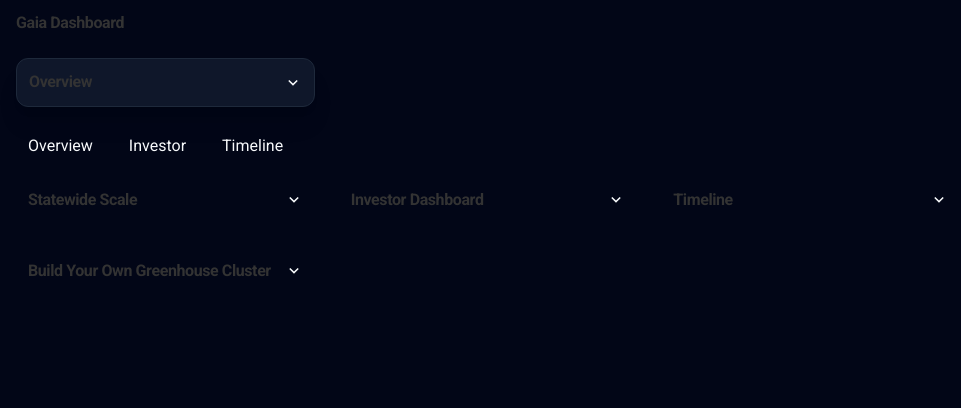
it: Dashboard page — general rendering › clicking the same button again collapses the card (toggle)
What coordinates should you click on to do the following:
click the 1st button "Expand"
I would click on:
 (293, 83)
Its box is [284,74,302,92].
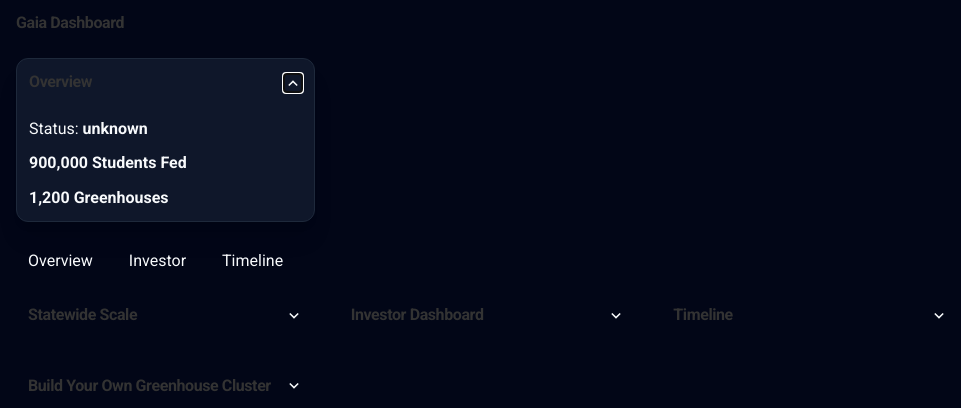
What coordinates should you click on to do the following:
click the button named "expand"
I would click on:
 (293, 83)
Its box is [284,74,302,92].
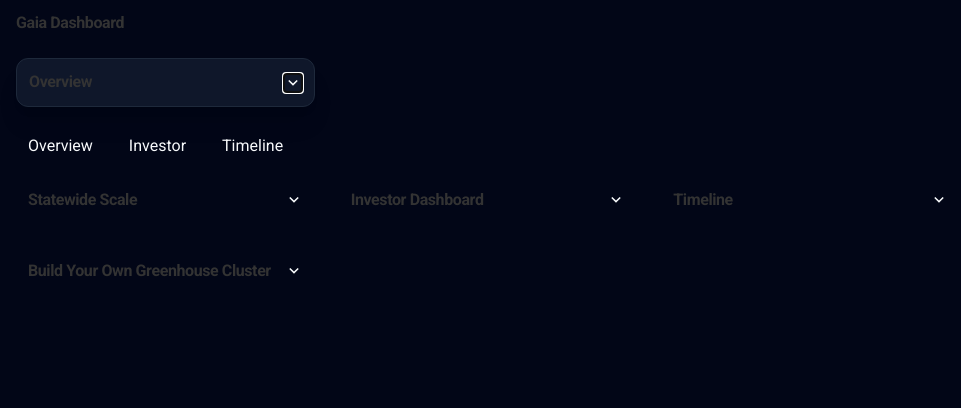
Expected: the 1st button "Expand" is collapsed, [284,74,302,92]
